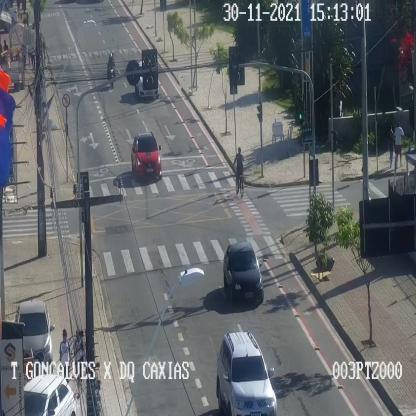bicycle: (233, 146, 244, 197)
car: (216, 331, 276, 415), (16, 300, 52, 372), (224, 242, 262, 301), (23, 374, 76, 415), (131, 132, 161, 178), (135, 60, 158, 98)
motorbike: (107, 50, 115, 88)
person: (60, 329, 72, 385), (72, 329, 84, 385), (394, 122, 404, 167), (387, 125, 394, 166), (30, 46, 36, 69), (22, 43, 27, 69)
